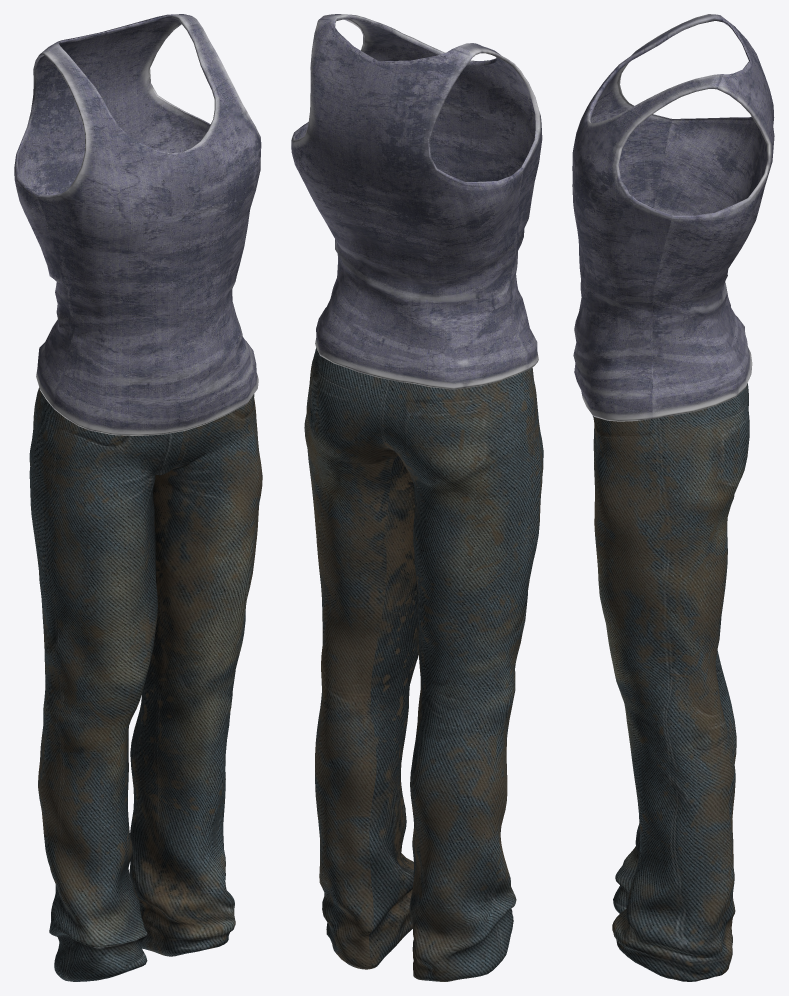
Rendered from manSuit2.obj.
3 views of the same model, side by side, from view 1: azimuth 30°, elevation 25°; view 2: azimuth 150°, elevation 25°; view 3: azimuth 270°, elevation 25° (orthographic). The views are drawn at different scales.
Visible parts, largest first — view 1: Jeans, Tank top; view 2: Jeans, Tank top; view 3: Jeans, Tank top.
Part boxes in pixels (box(x1,y1,x2,y2)): Jeans: box(29, 387, 262, 981); Tank top: box(14, 14, 261, 435); Jeans: box(304, 347, 543, 981); Tank top: box(291, 14, 542, 389); Jeans: box(593, 383, 749, 981); Tank top: box(572, 14, 774, 421).
Bounding box in the file's own units: 36.15 × 154 × 31.02.
